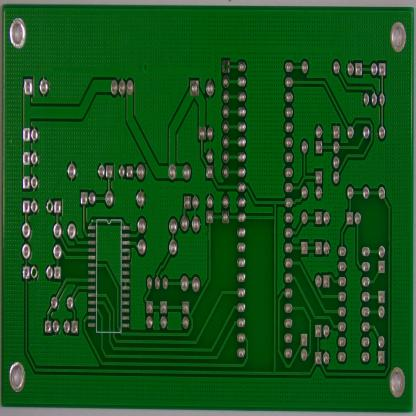missing_hole: (30, 264, 38, 280), (46, 198, 53, 213), (222, 58, 229, 72)
